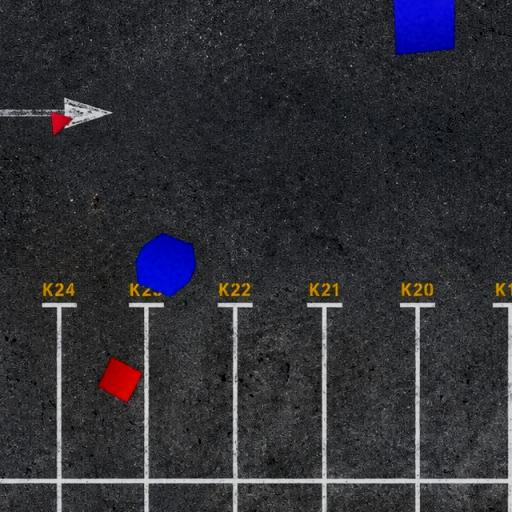BLUE_SQUARE: (393, 0, 456, 55)
RED_SQUARE: (97, 355, 143, 403)
